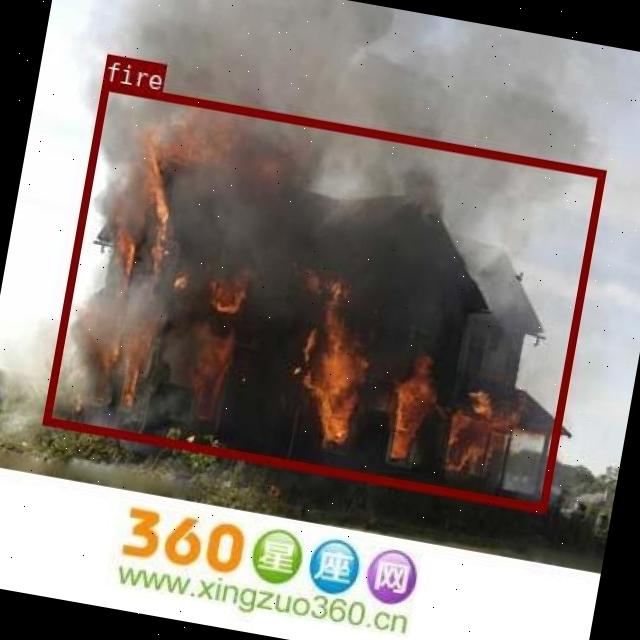fire: (41, 80, 604, 512)
